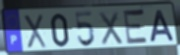0: (50, 12, 71, 48)
5: (74, 10, 97, 48)
A: (149, 9, 177, 44)
E: (123, 8, 150, 47)
X: (98, 10, 125, 47), (22, 14, 48, 50)
